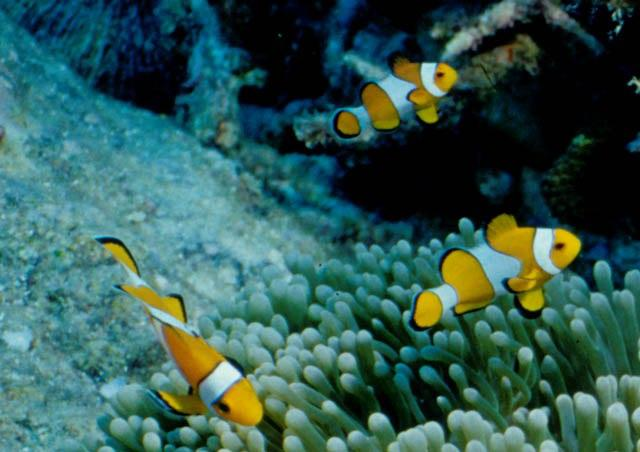Sirip Anal: (447, 292, 498, 320), (370, 112, 404, 136)
Sirip Dada: (140, 383, 222, 421), (496, 262, 542, 298), (399, 79, 436, 107)
Sirip Ekor: (391, 276, 447, 342), (90, 227, 154, 283), (314, 98, 372, 154)
Sirip Perut: (505, 286, 549, 328), (410, 100, 442, 128)
Sirip Punggung: (432, 206, 524, 282), (150, 266, 208, 340), (353, 43, 419, 103)
